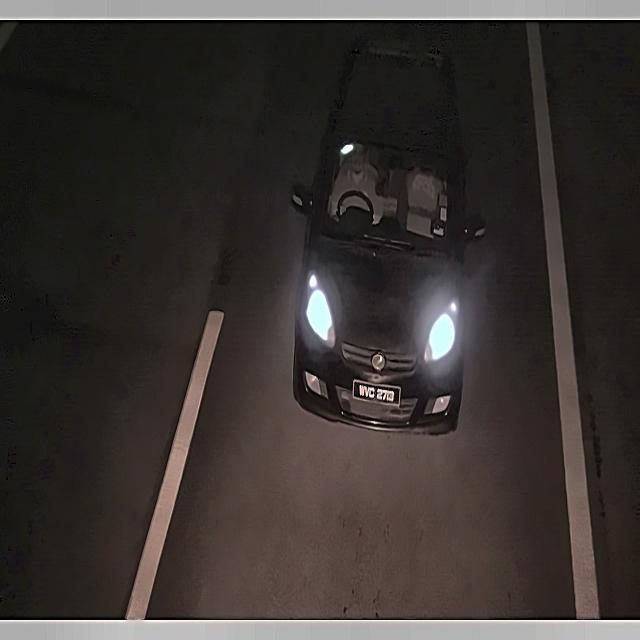car: (349, 377, 402, 409)
